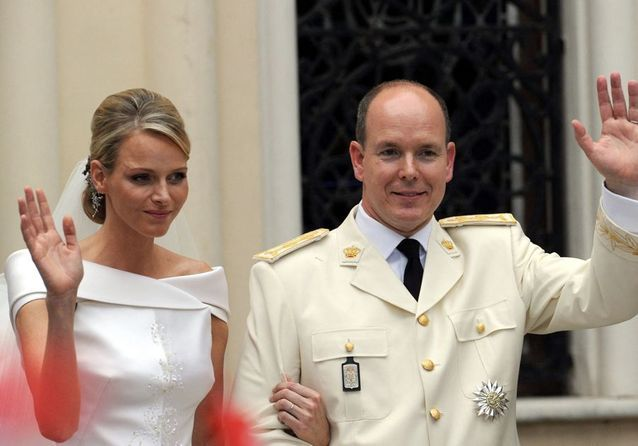without_mask: (375, 136, 438, 206), (125, 148, 185, 220)
